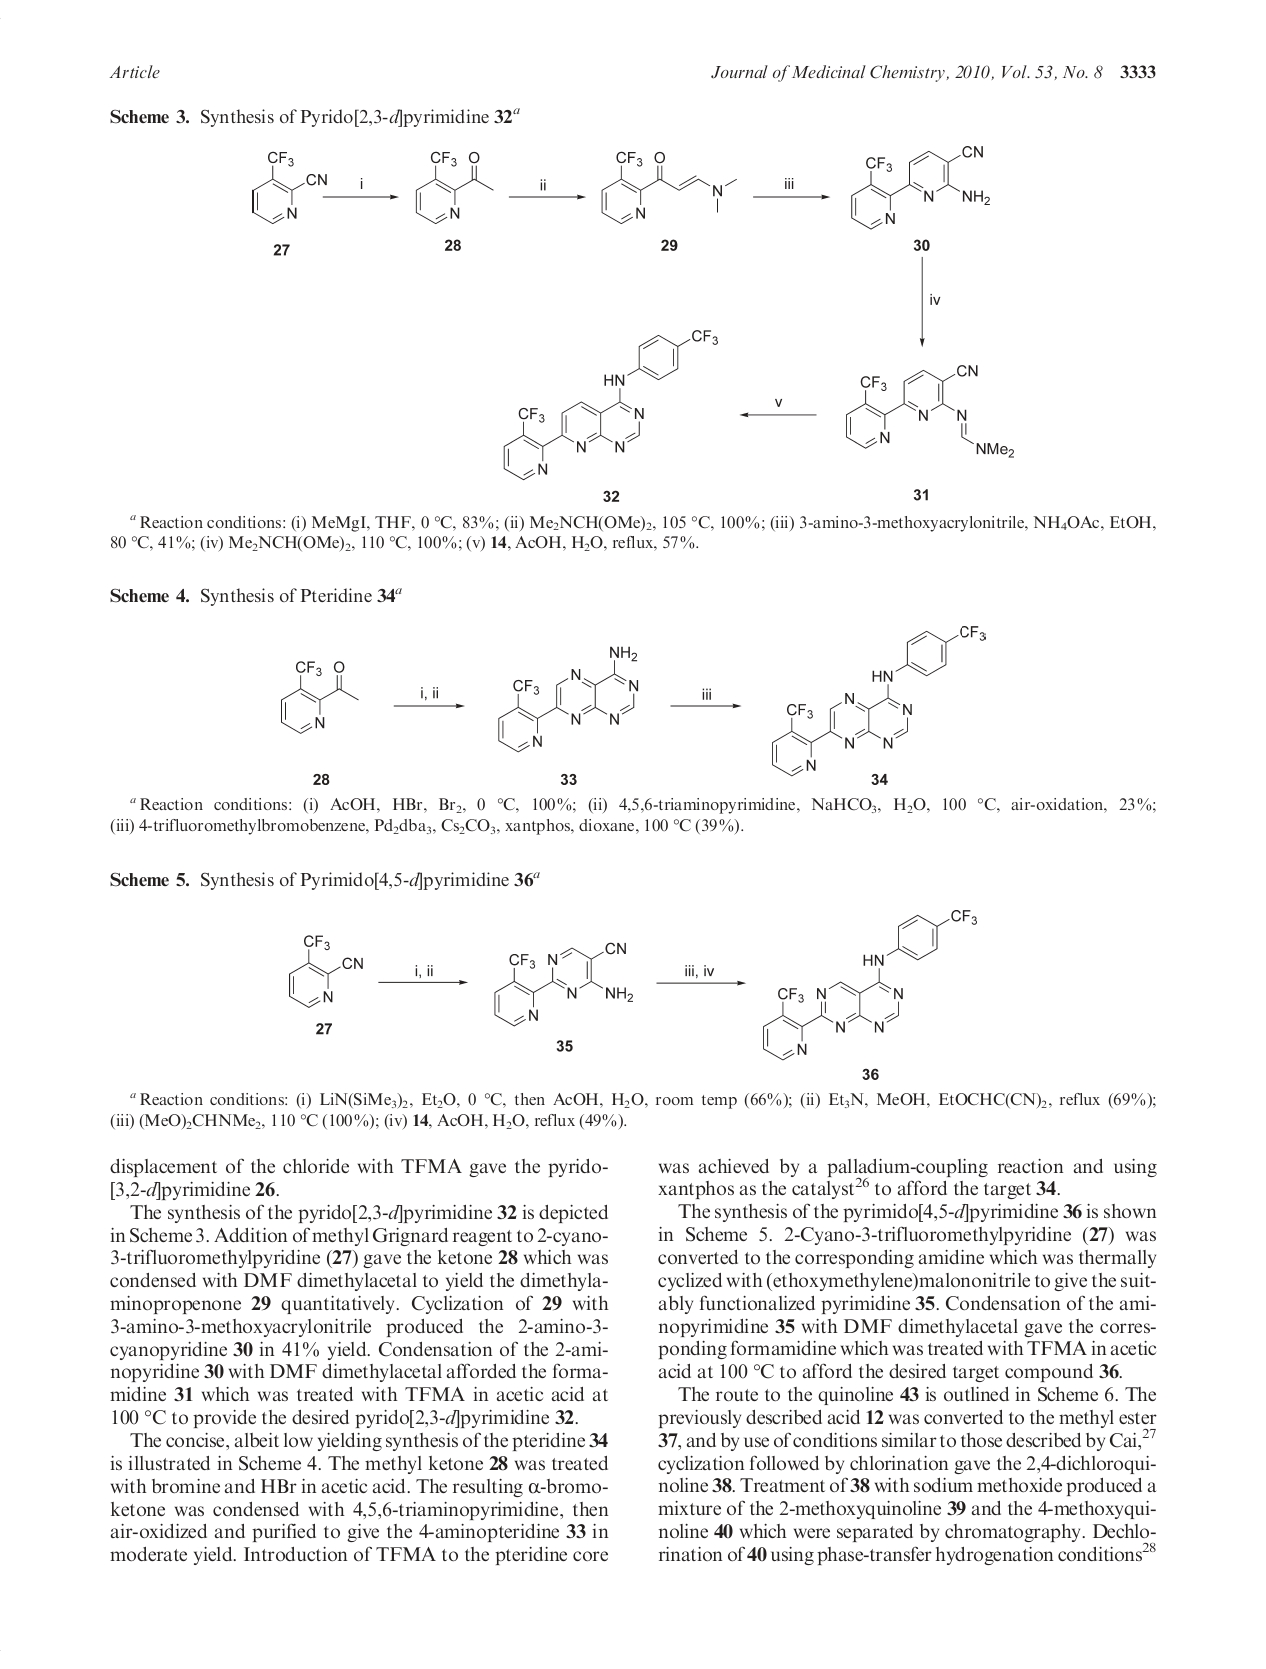exist_molecular: (755, 896, 988, 1063), (767, 618, 1004, 779), (493, 323, 725, 481), (489, 642, 650, 753), (839, 358, 1023, 453), (488, 930, 637, 1031), (848, 140, 995, 237), (594, 142, 743, 235), (274, 654, 372, 739), (247, 144, 334, 230), (411, 144, 500, 227), (286, 928, 371, 1013)
